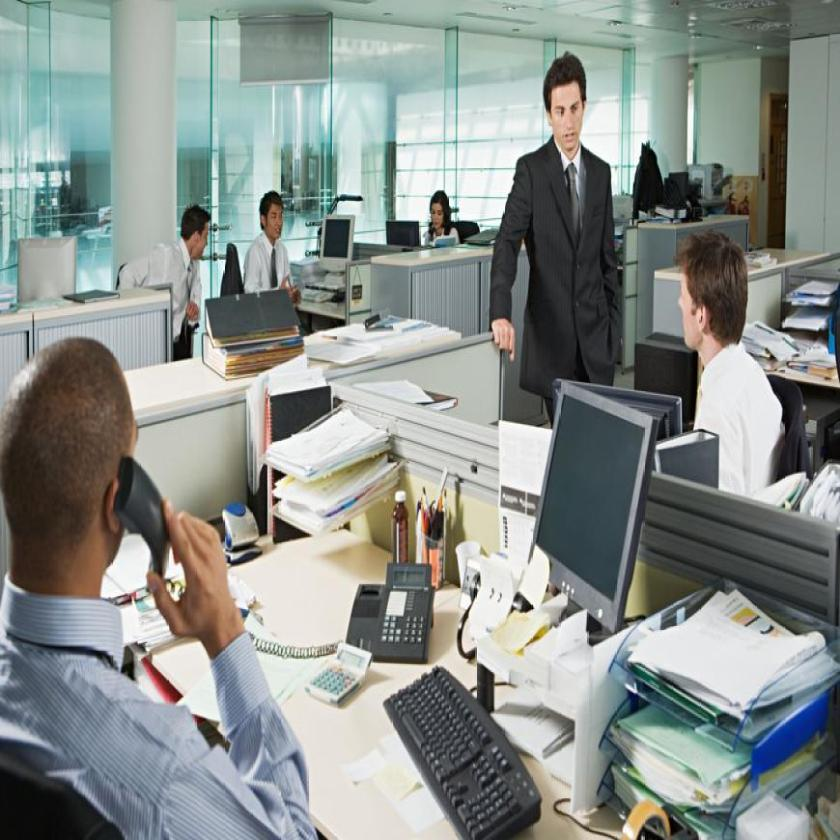Sin_casco: (0, 326, 148, 592), (673, 228, 747, 370), (539, 49, 588, 154), (179, 202, 214, 264), (256, 184, 290, 241), (426, 187, 451, 235)
